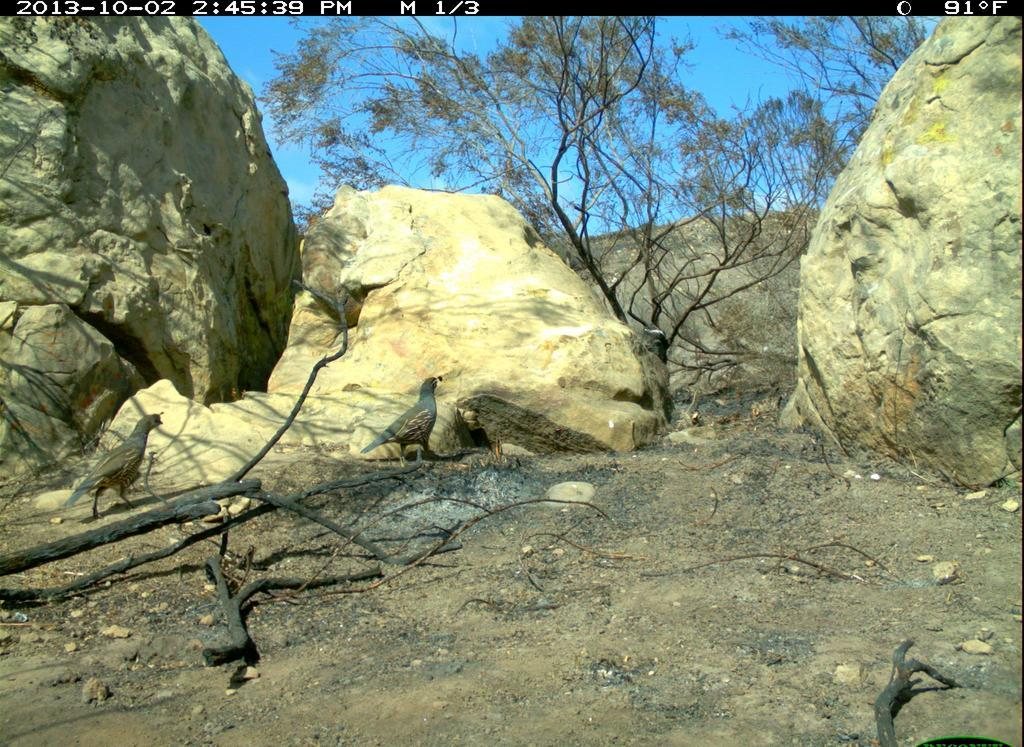bird: (54, 400, 175, 521), (356, 365, 459, 472)
